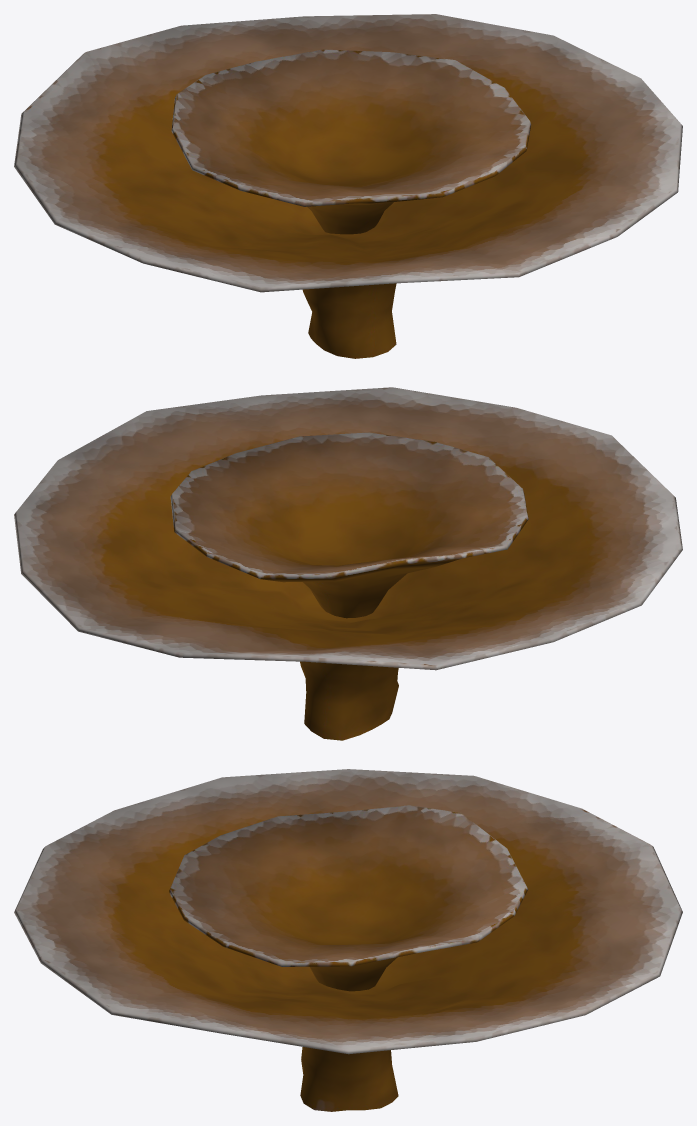
The model's file is 28-Table.fbx.
The picture shows the model from 3 angles, top to bottom: view 1: azimuth 30°, elevation 25°; view 2: azimuth 150°, elevation 25°; view 3: azimuth 270°, elevation 25°; orthographic projection.
Parts seen in each view (by area): view 1: 28-Table_LOD00; view 2: 28-Table_LOD00; view 3: 28-Table_LOD00.
Part boxes in pixels (left/top/right/bottom): 28-Table_LOD00: left=14, top=14, right=682, bottom=358; 28-Table_LOD00: left=14, top=387, right=682, bottom=740; 28-Table_LOD00: left=14, top=769, right=682, bottom=1111.
Size of what is drawn, in the model's own units: 157 by 58.97 by 157.
